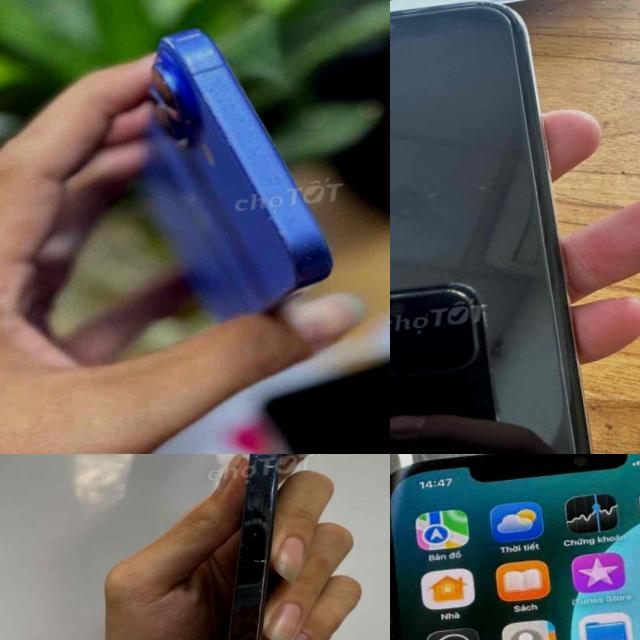gen_12_13: (390, 454, 640, 640), (169, 454, 390, 640)
gen_16: (145, 29, 331, 320)
gen_x_xs: (390, 1, 590, 454)
